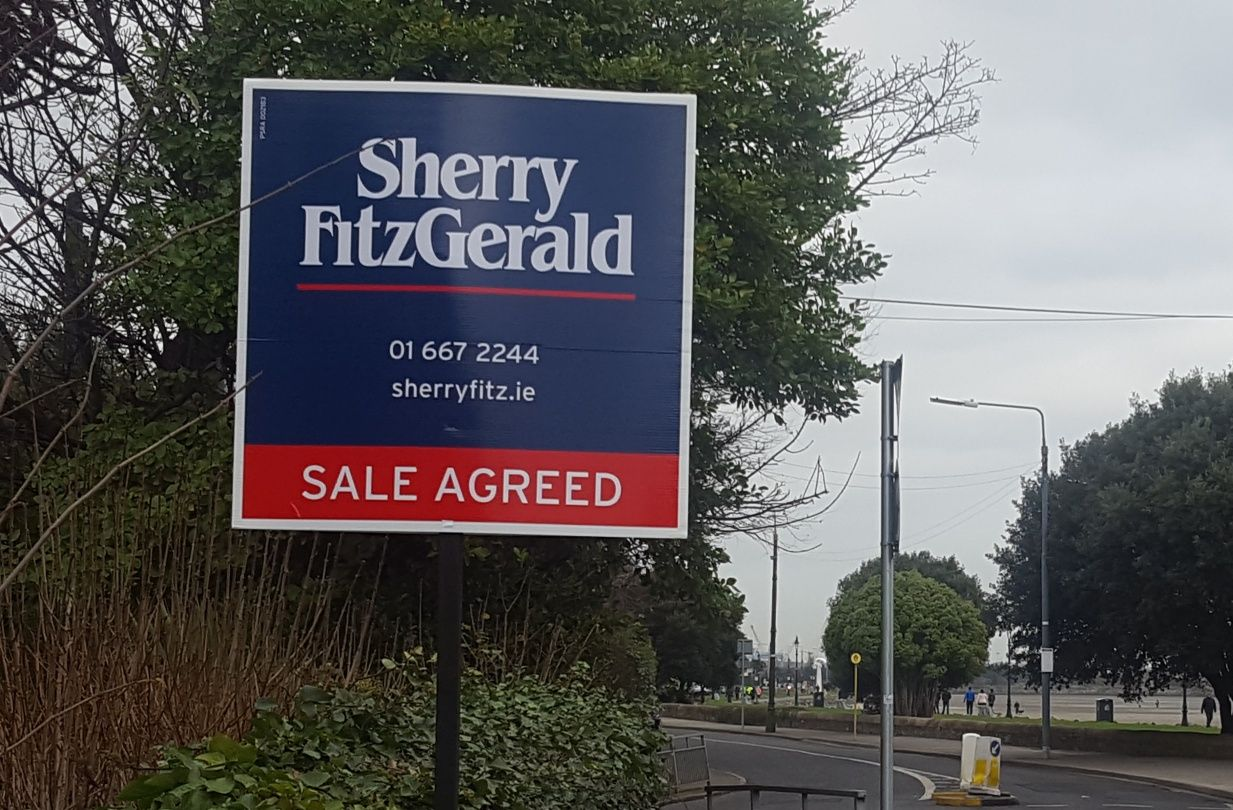property sign: (222, 58, 711, 563)
